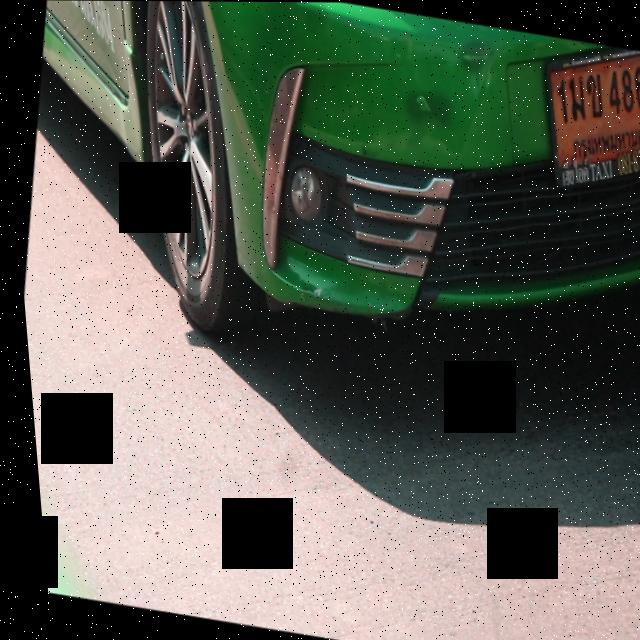text: (551, 57, 640, 168)
